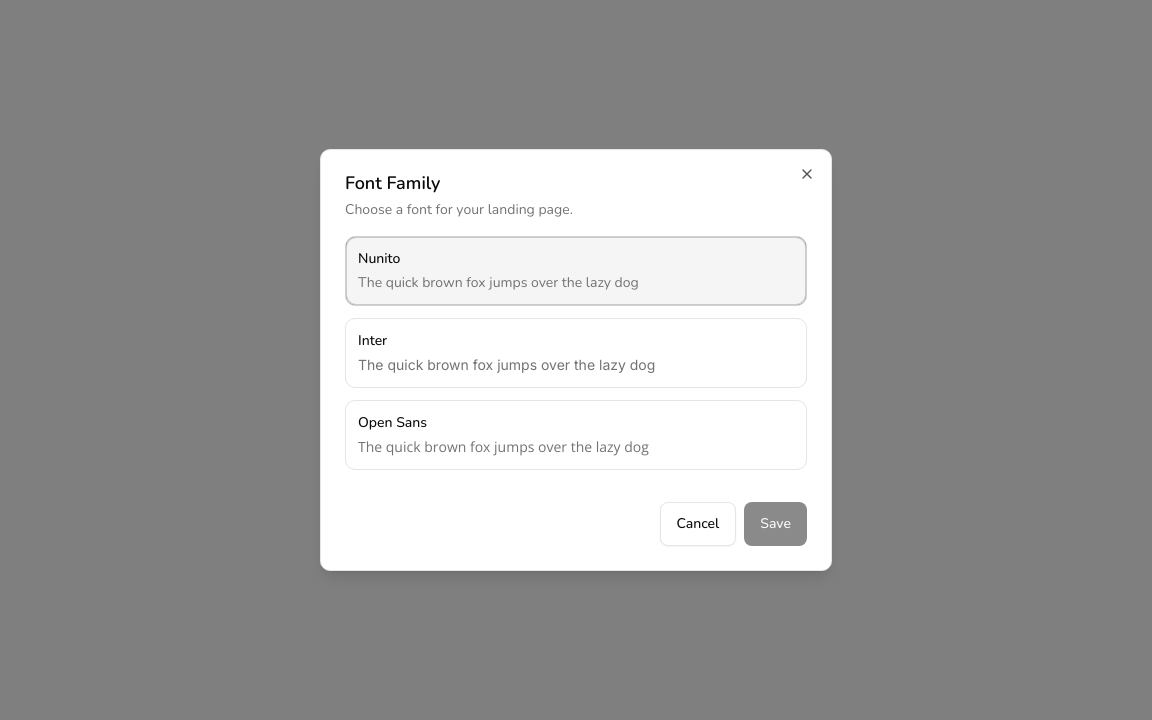
Test case: FontSelector › save button is enabled after selecting different font
Click the button with test id "font-option-inter" at (576, 353), box [345,318,807,388]
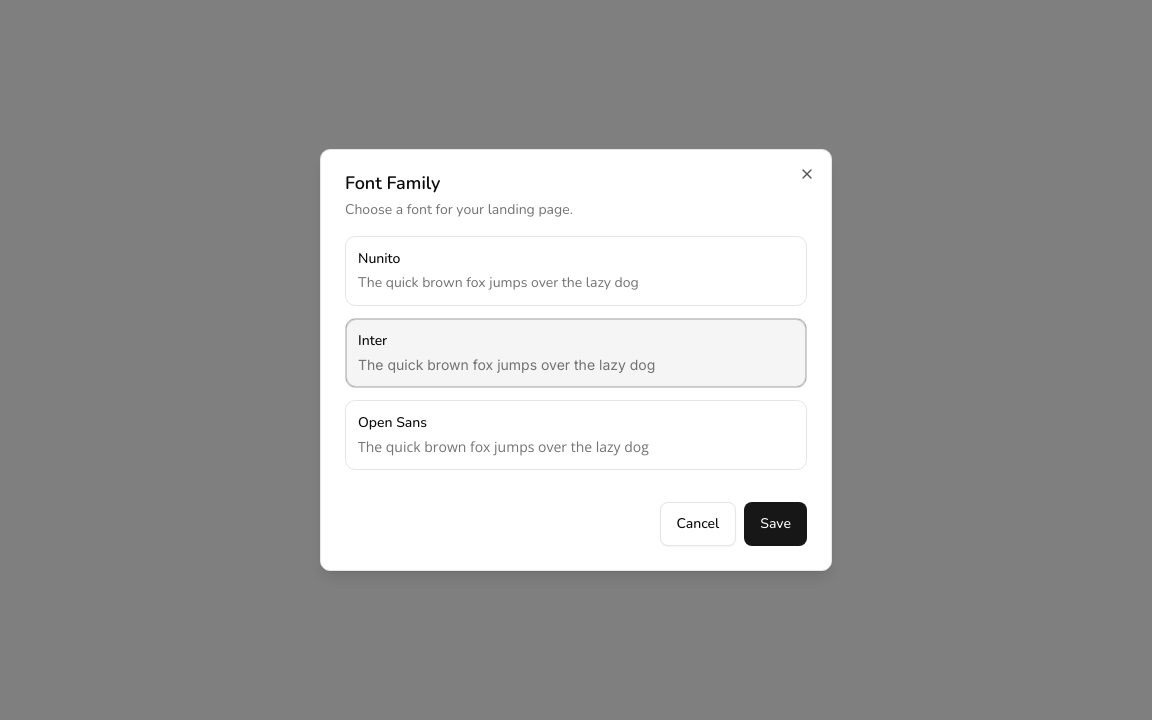
expect the button with test id "save-font-button" is enabled: met, box [744,502,807,546]
